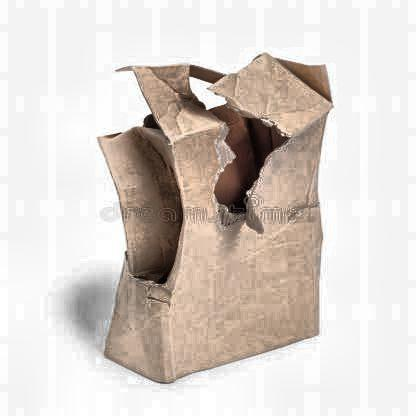defect parcel: (50, 40, 357, 393)
